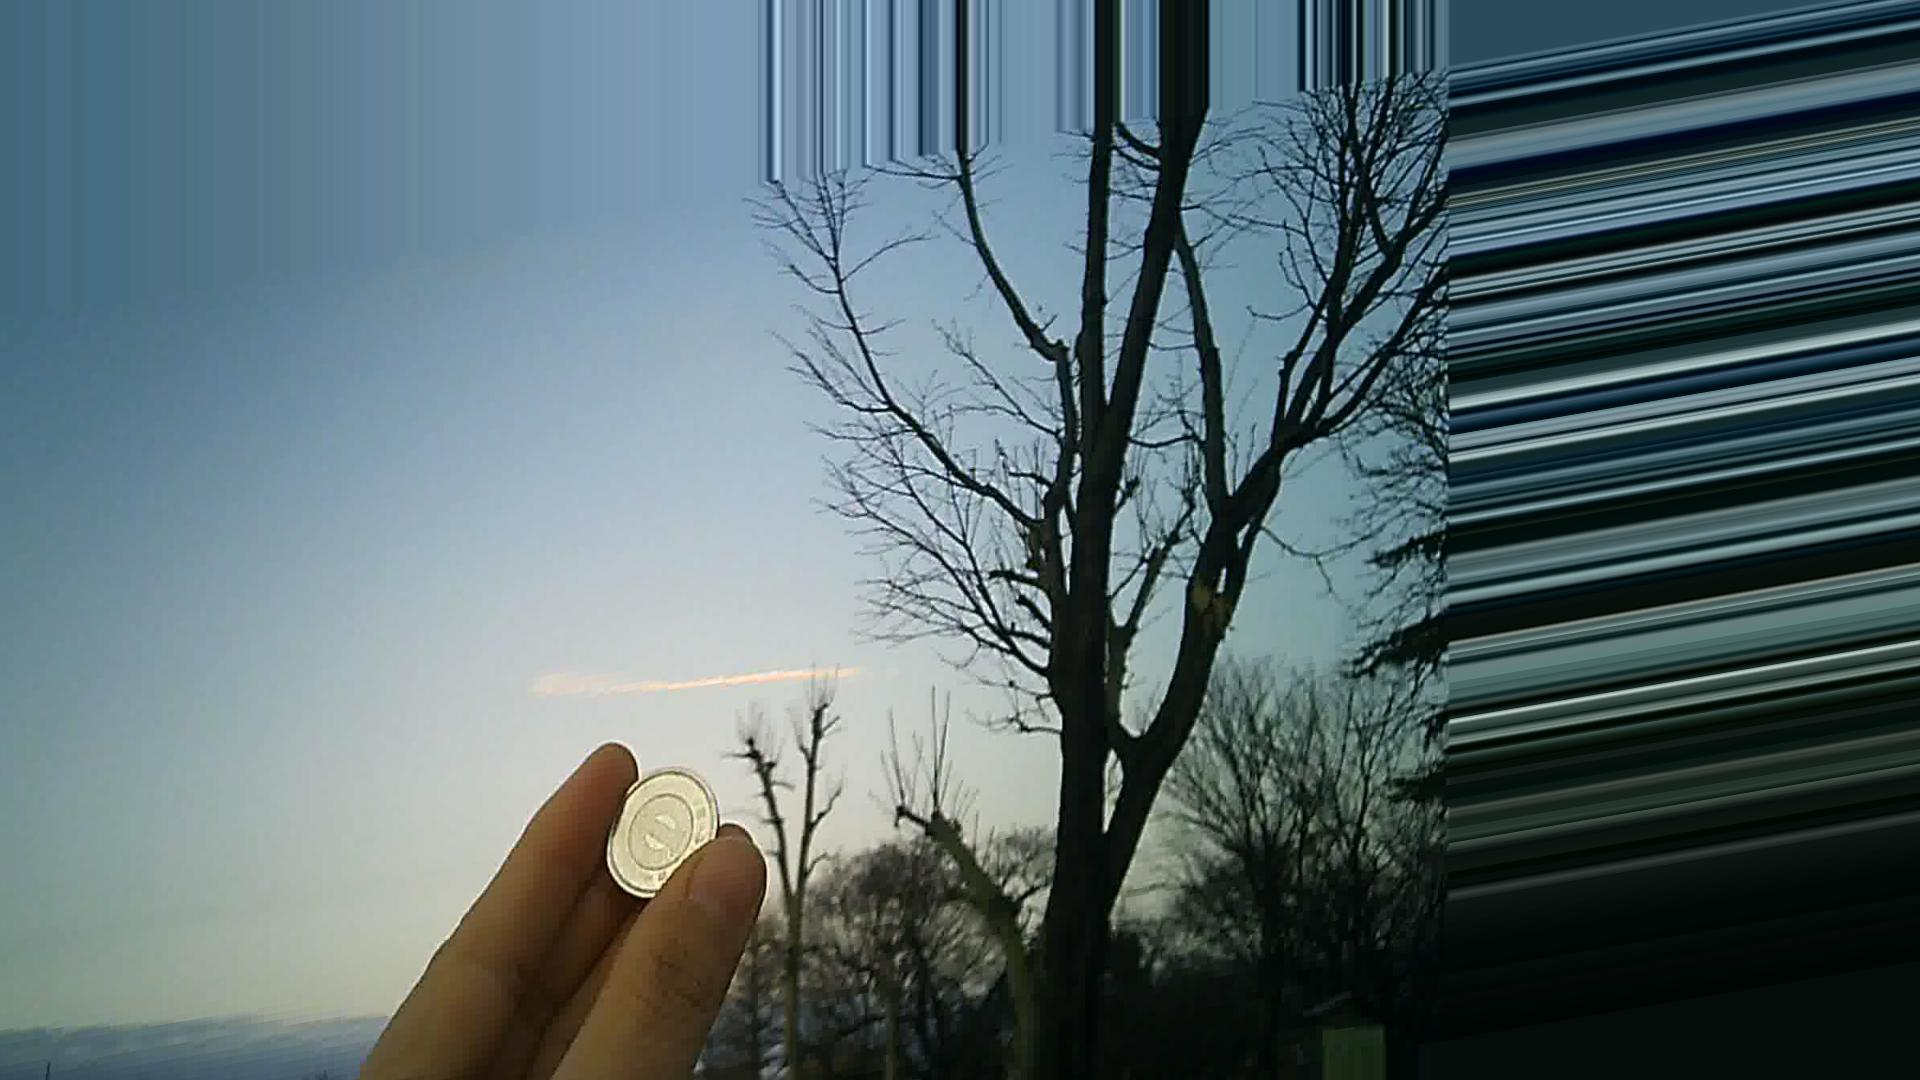1 Yen: (600, 767, 713, 893)
